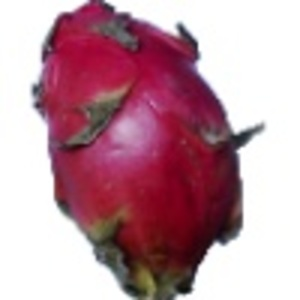pitaia: (31, 1, 264, 300)
